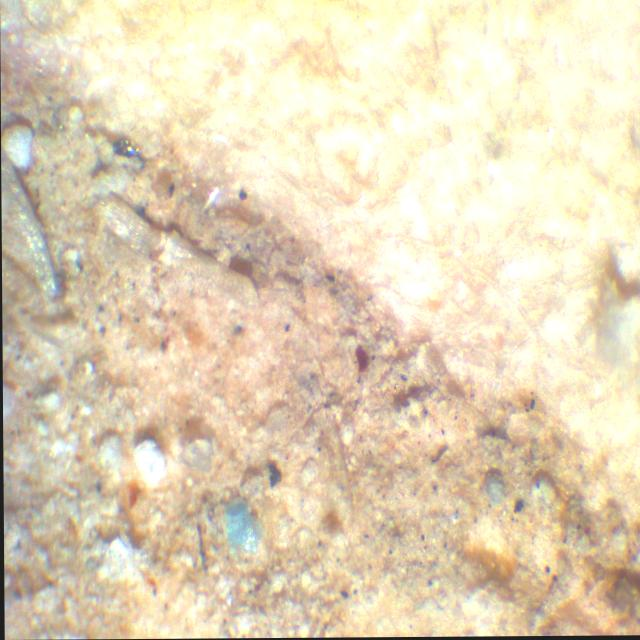microplastic: (212, 494, 268, 565)
